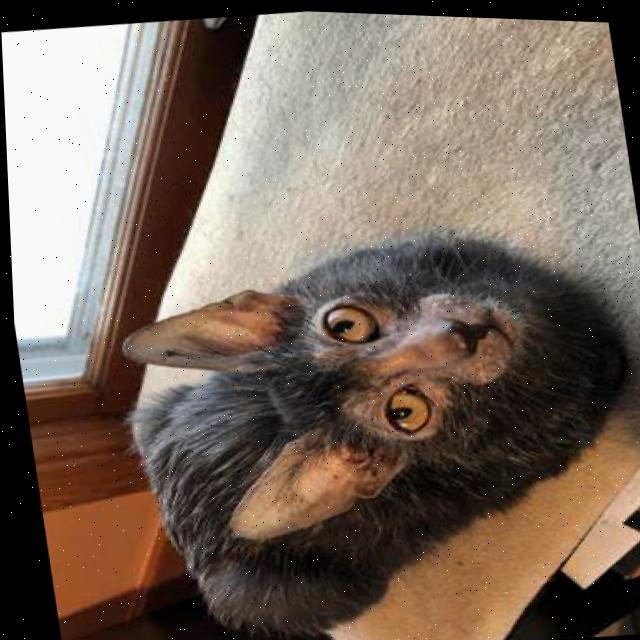Lykoi: (81, 196, 640, 640)
